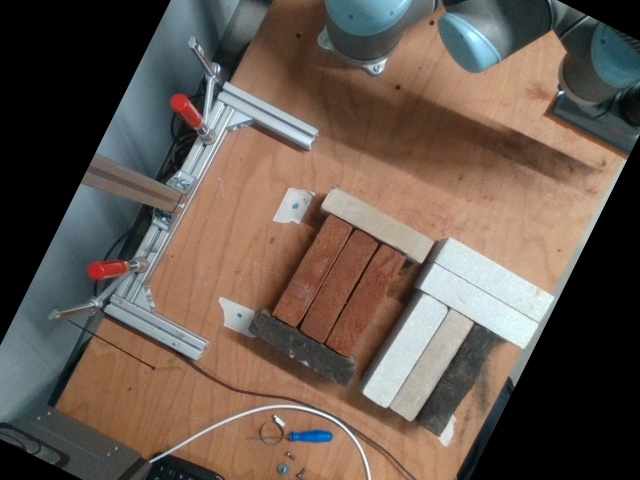brick-side: (388, 307, 474, 421), (416, 323, 502, 437), (362, 295, 448, 408), (437, 237, 551, 321), (297, 229, 380, 344), (271, 214, 354, 329), (422, 265, 536, 348), (324, 243, 407, 357), (320, 185, 435, 264), (247, 308, 358, 387)
